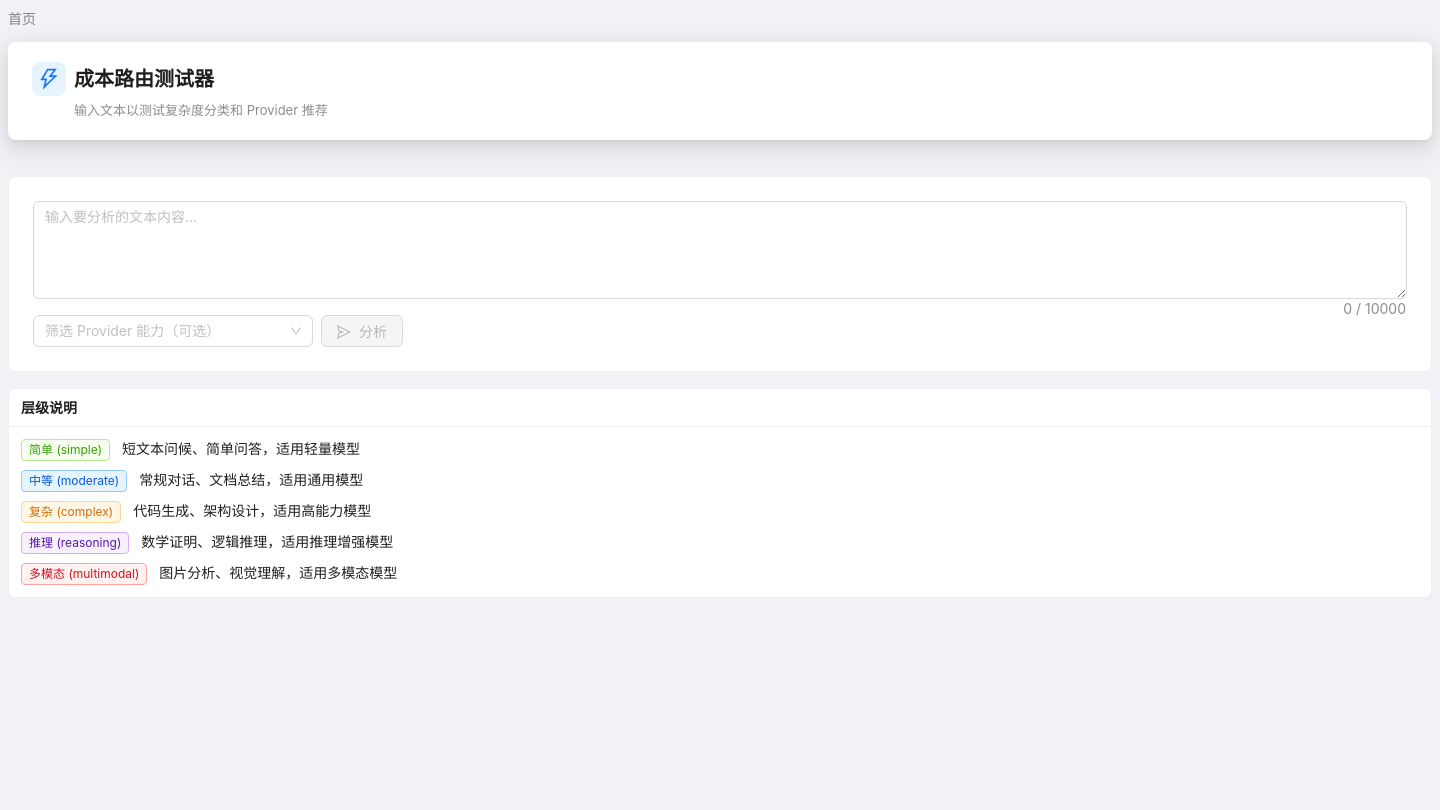
Test case: CostRouterPage › classify 失败时显示错误提示
The image size is (1440, 810).
Step 1. Type "出错测试" into the text box with placeholder "输入要分析的文本内容..." → (720, 250), box [34, 202, 1406, 298]
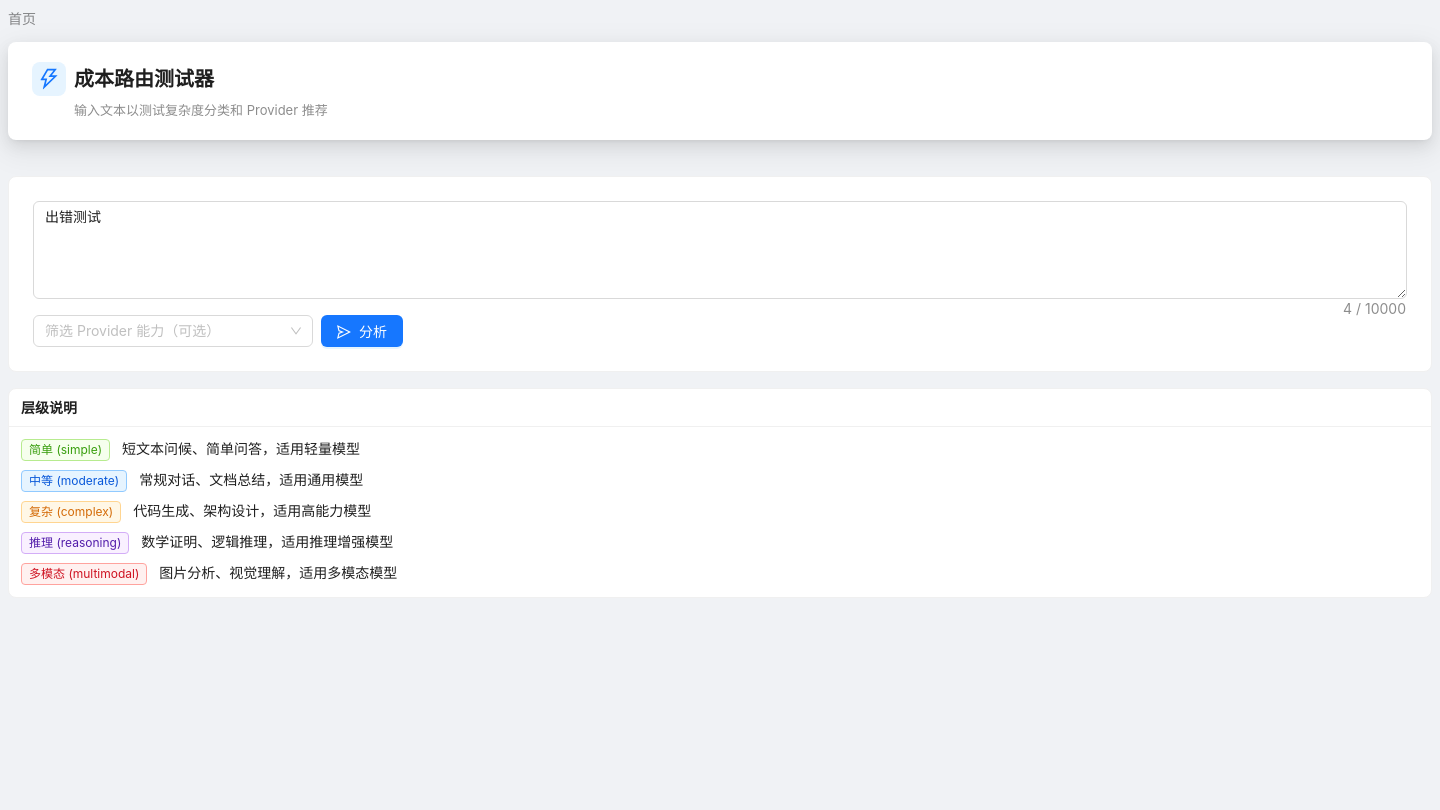
Step 2. Click the button "分析" → (362, 331), box [321, 315, 403, 347]
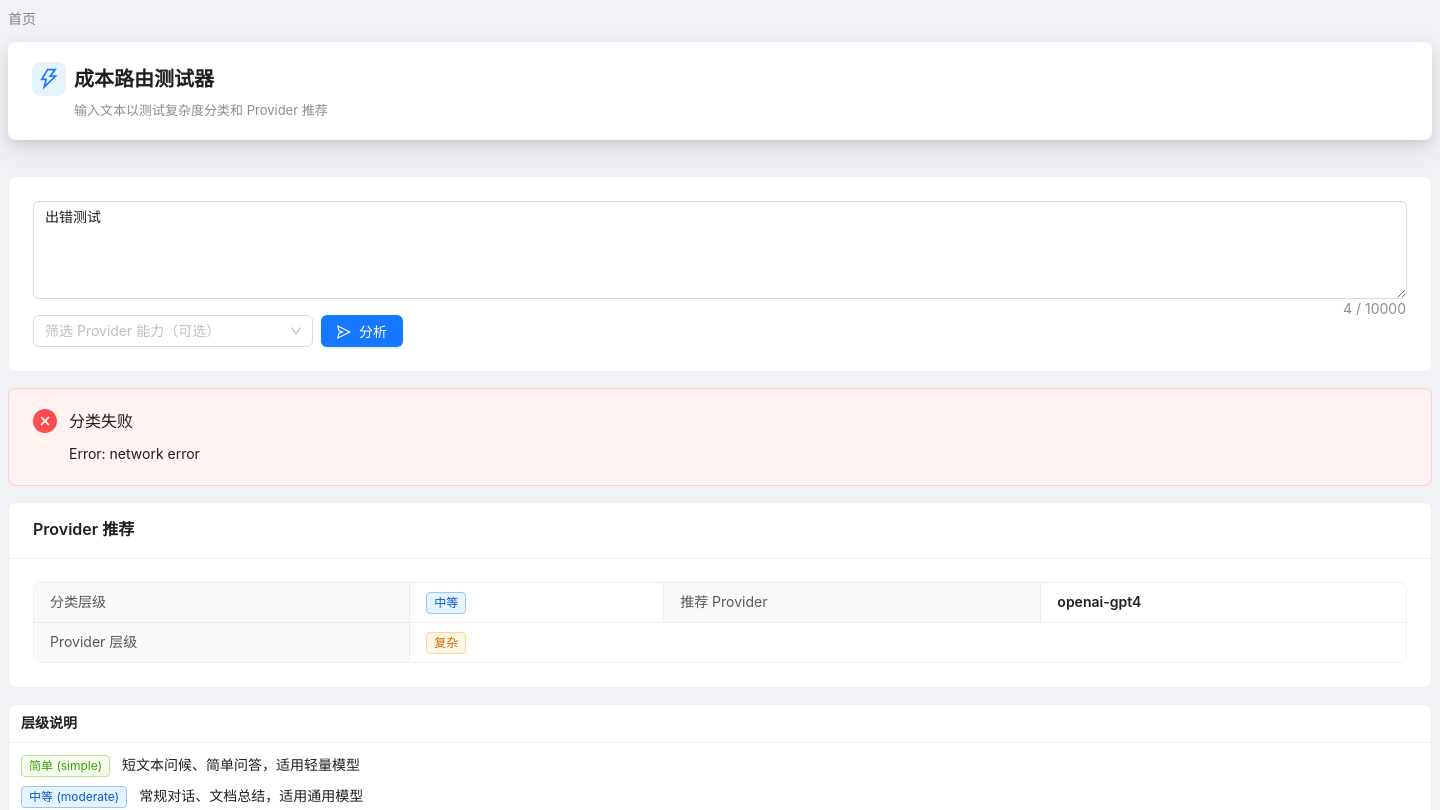
expect the text "分类失败" is shown: met, box [69, 411, 133, 431]
